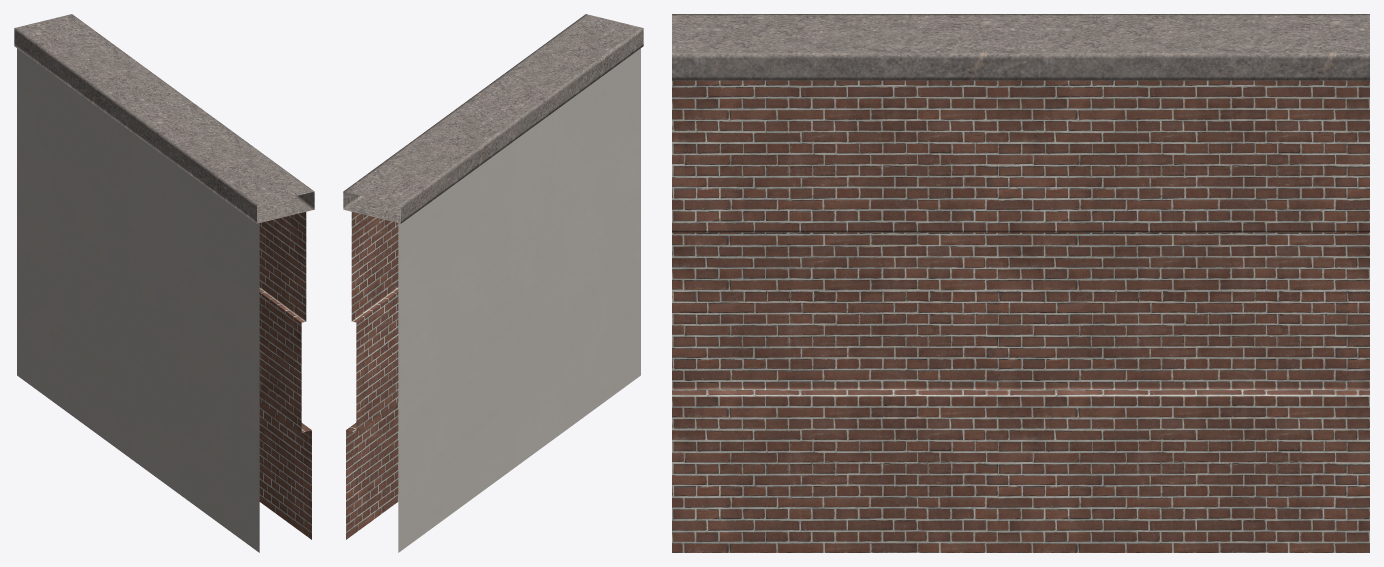
Rendered from BuildingB_Top_Wall_VarA_mdl.fbx.
3 views of the same model, side by side, from view 1: azimuth 30°, elevation 25°; view 2: azimuth 150°, elevation 25°; view 3: azimuth 270°, elevation 25° (orthographic). The views are drawn at different scales.
Parts seen in each view (by area): view 1: BuildingB_Top_Wall_VarA_LOD0; view 2: BuildingB_Top_Wall_VarA_LOD0; view 3: BuildingB_Top_Wall_VarA_LOD0.
Boxes of the visible parts, x1,y1,x2,y2 form: BuildingB_Top_Wall_VarA_LOD0: (14, 14, 314, 552); BuildingB_Top_Wall_VarA_LOD0: (343, 14, 643, 552); BuildingB_Top_Wall_VarA_LOD0: (672, 14, 1369, 552).
Size of what is drawn, in the model's own units: 54.99 by 316 by 400.
